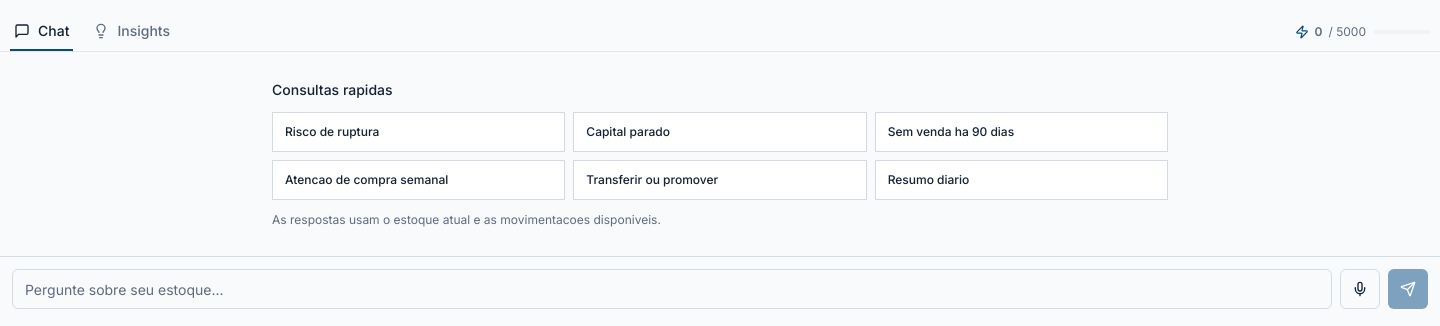
EstoqueAssistantTab › nao transforma falha de contabilizacao de credito em retry do chat
The image size is (1440, 326).
Type "Analise" into the field with placeholder "Pergunte sobre seu estoque..." at [672, 289], box [12,269,1332,309]
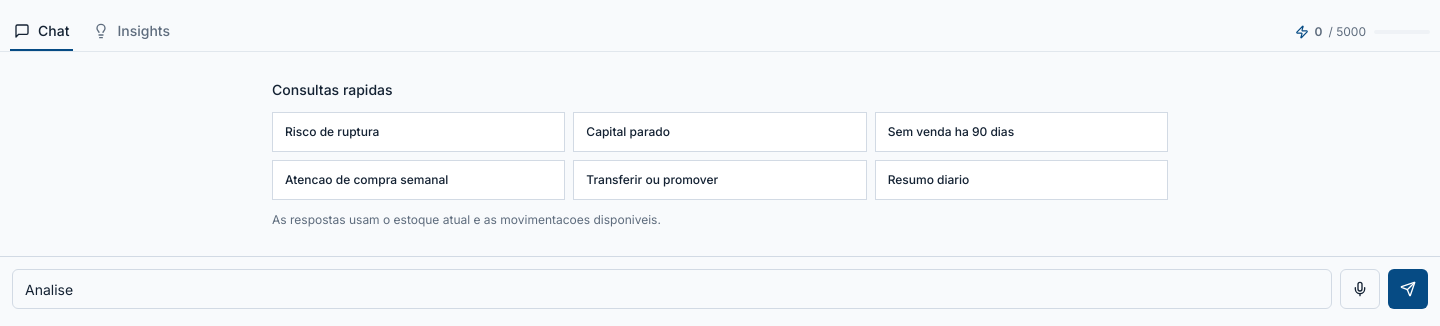
Click the button named "Enviar pergunta" at [1408, 289], box [1388,269,1428,309]
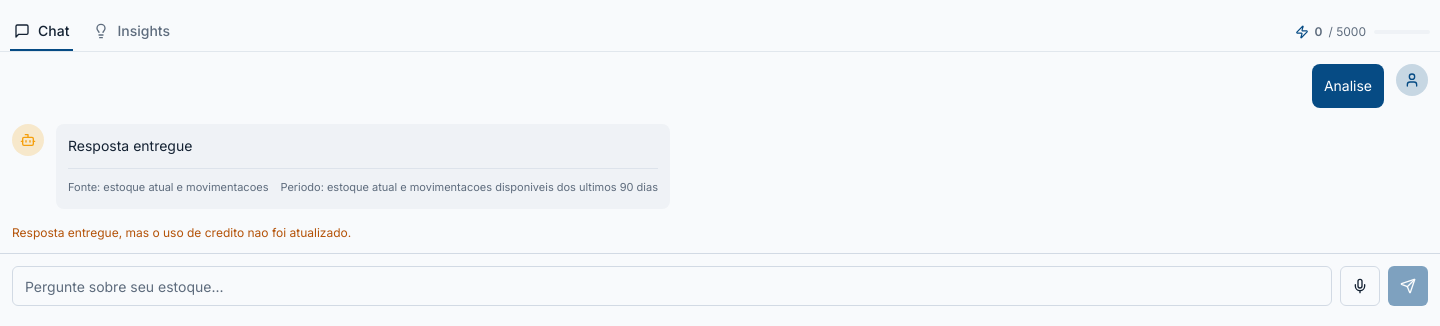
Expected: the text "Resposta entregue" is shown, [68,137,192,154]
Expected: the text "Resposta entregue, mas o uso de credito nao foi atualizado." is shown, [12,225,351,240]
